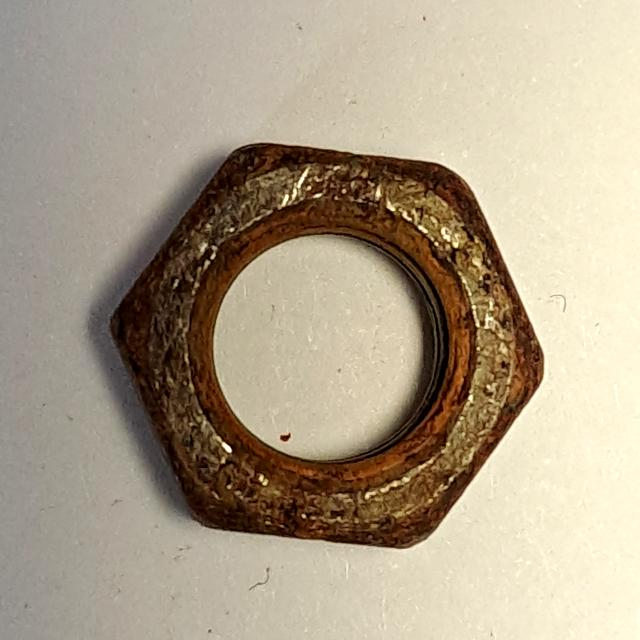Rust: (94, 130, 560, 557)
